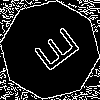E: (25, 25, 81, 80)
